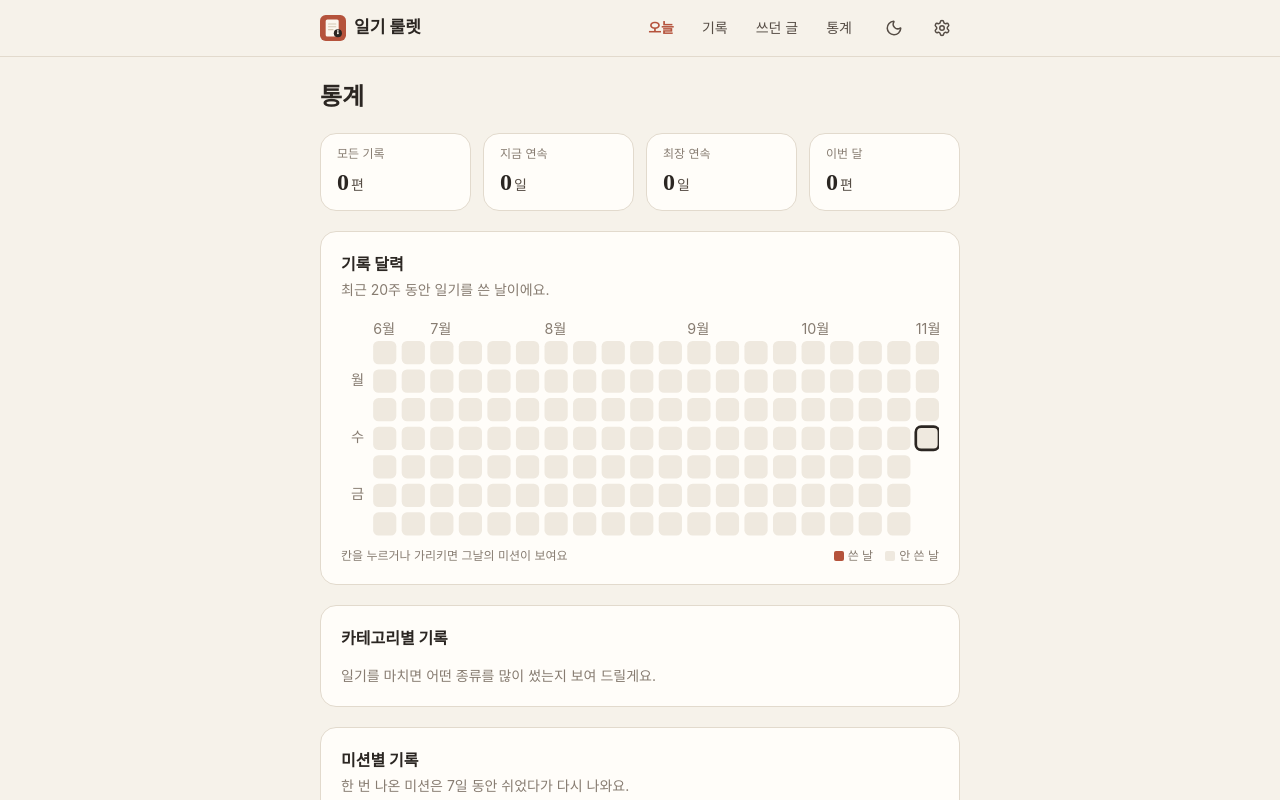
Life Hub entry points › (3) before connecting, 「Life Hub 연결」 exists only in the settings Life Hub section
The width and height of the screenshot is (1280, 800).
Check: the heading "통계" is shown, box x1=320 y1=84 x2=364 y2=110
Check: the text "백업 파일 저장" is not shown
Click the button named "설정": (942, 28) x1=924 y1=10 x2=960 y2=46
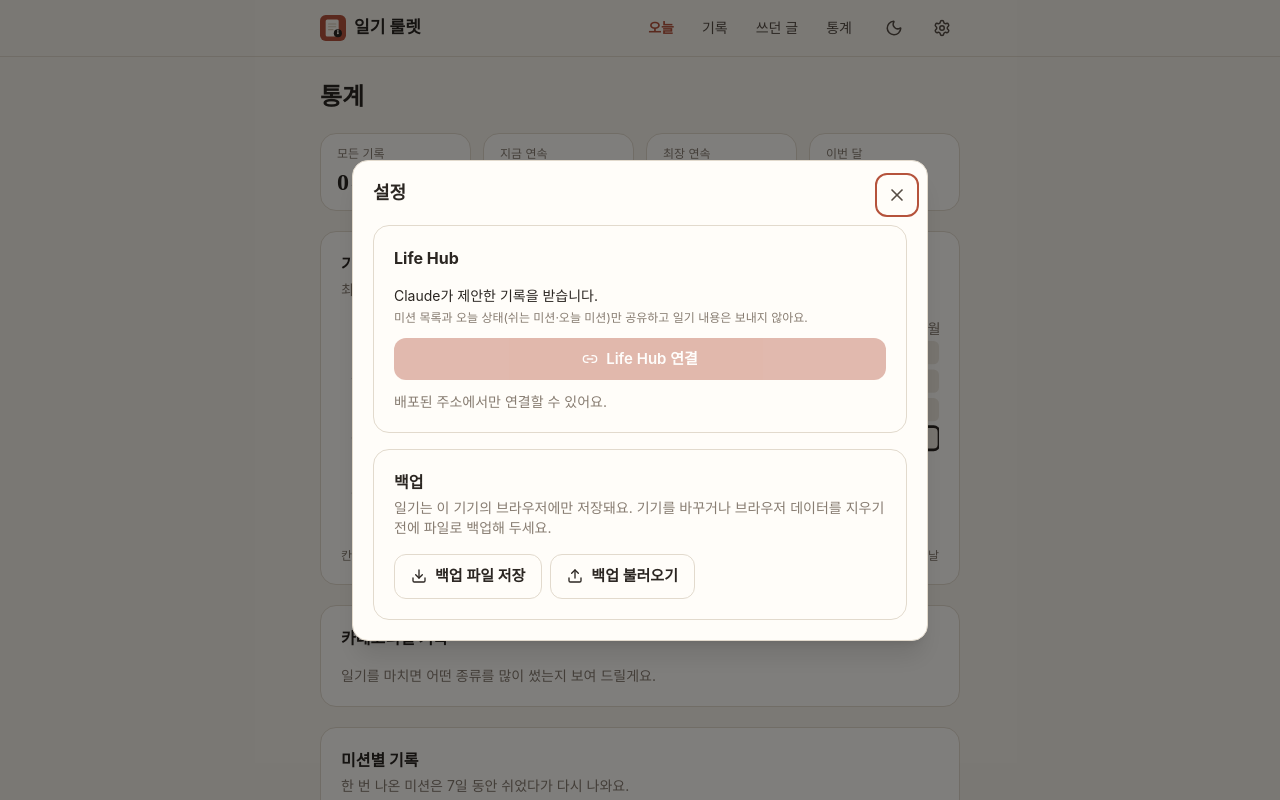
Check: the heading "Life Hub" is shown, box x1=394 y1=248 x2=459 y2=268
Check: the element that starts with "Life Hub" shows "Claude가 제안한 기록을 받습니다.", box x1=394 y1=286 x2=598 y2=304
